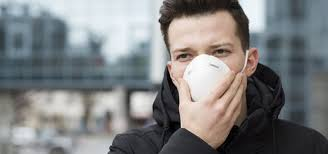with_mask: (153, 3, 268, 120)
